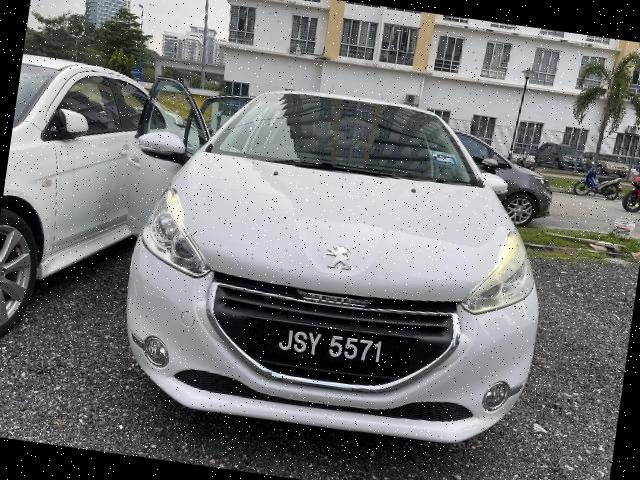License_Plate: (254, 318, 407, 378)
car: (103, 59, 577, 459), (1, 61, 179, 386)
